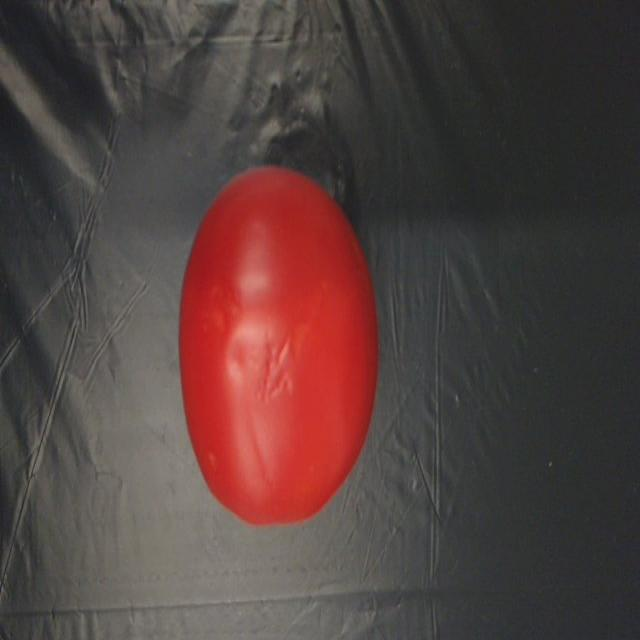kirmizi: (183, 160, 380, 533)
